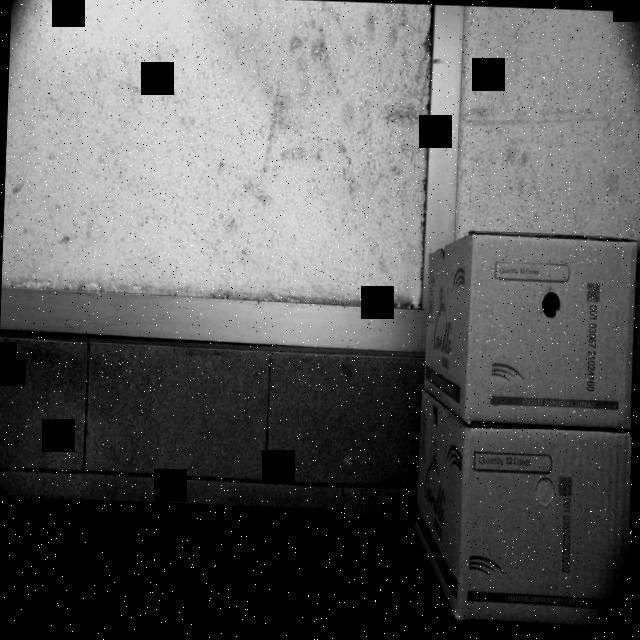box: (459, 431, 636, 631), (468, 230, 640, 435)
